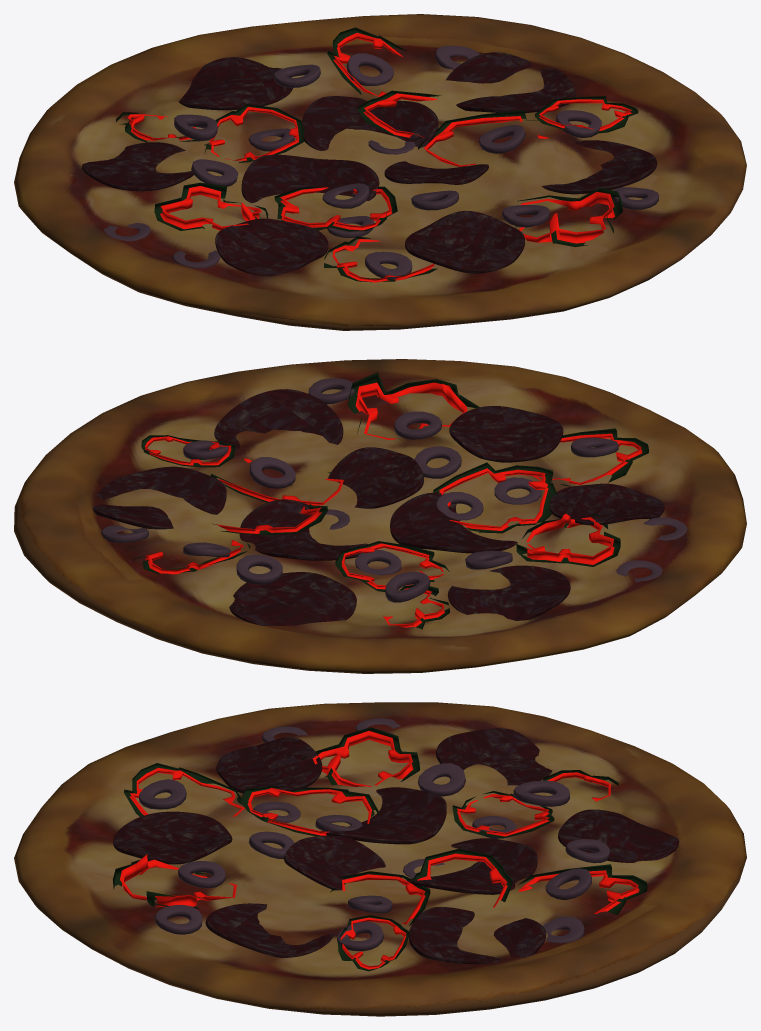
File: pizza2.fbx
3 renders of one model, top to bottom at view 1: azimuth 30°, elevation 25°; view 2: azimuth 150°, elevation 25°; view 3: azimuth 270°, elevation 25°, orthographic.
Visible parts, largest first — view 1: pizza, meat1, meat6, meat7, meat8, meat4, meat3, meat5, meat2, piman.002, piman, piman.005 (+22 smaller); view 2: pizza, meat4, meat1, meat3, meat2, meat5, meat9, meat7, meat6, meat8, piman.002, piman.005 (+23 smaller); view 3: pizza, meat1, meat3, meat6, meat5, meat7, meat4, meat8, meat9, meat2, piman, piman.005 (+22 smaller).
Boxes of the visible parts, left/top/right/bottom form: pizza: left=14, top=14, right=746, bottom=330; meat1: left=405, top=210, right=524, bottom=273; meat6: left=215, top=218, right=328, bottom=276; meat7: left=241, top=154, right=379, bottom=203; meat8: left=301, top=96, right=438, bottom=150; meat4: left=178, top=57, right=292, bottom=110; meat3: left=446, top=52, right=575, bottom=112; meat5: left=82, top=142, right=193, bottom=191; meat2: left=542, top=140, right=657, bottom=194; piman.002: left=515, top=188, right=622, bottom=247; piman: left=154, top=182, right=268, bottom=230; piman.005: left=274, top=186, right=397, bottom=231; pizza: left=14, top=359, right=746, bottom=673; meat4: left=229, top=572, right=356, bottom=625; meat1: left=449, top=406, right=563, bottom=462; meat3: left=92, top=466, right=226, bottom=529; meat2: left=214, top=389, right=343, bottom=449; meat5: left=447, top=565, right=570, bottom=620; meat9: left=328, top=447, right=423, bottom=508; meat7: left=390, top=492, right=517, bottom=553; meat6: left=549, top=483, right=664, bottom=525; meat8: left=239, top=499, right=367, bottom=560; piman.002: left=348, top=372, right=479, bottom=439; piman.005: left=433, top=462, right=558, bottom=533; pizza: left=14, top=702, right=746, bottom=1016; meat1: left=113, top=811, right=232, bottom=864; meat3: left=409, top=907, right=546, bottom=964; meat6: left=216, top=736, right=322, bottom=794; meat5: left=436, top=728, right=552, bottom=785; meat7: left=320, top=787, right=446, bottom=844; meat4: left=558, top=809, right=679, bottom=862; meat8: left=406, top=838, right=537, bottom=894; meat9: left=284, top=835, right=385, bottom=890; meat2: left=205, top=903, right=334, bottom=957; piman: left=302, top=727, right=419, bottom=786; piman.005: left=240, top=785, right=379, bottom=836.
Bounding box in the file's own units: 941 × 69.9 × 948.
